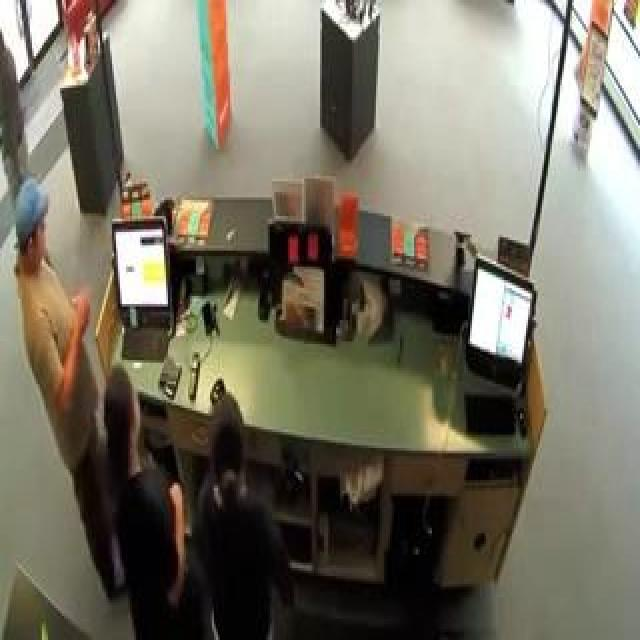low_con: (14, 176, 60, 283)
no_con: (197, 383, 256, 517), (94, 361, 144, 481)
